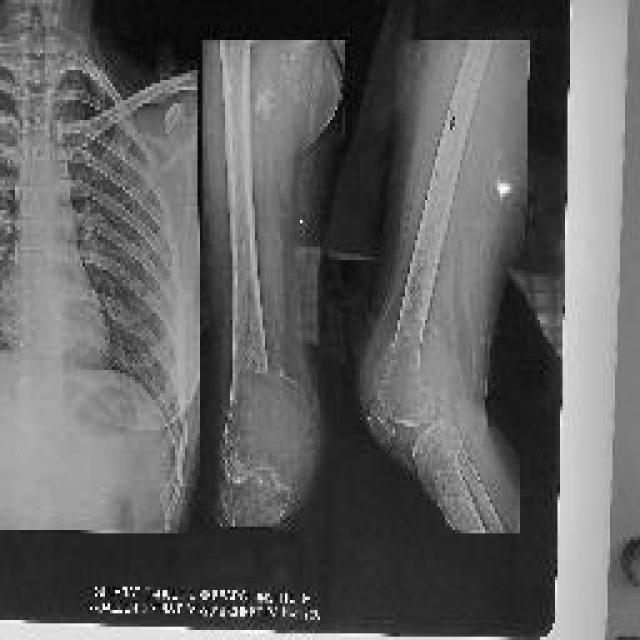bone-cancer: (232, 371, 306, 486), (380, 320, 457, 404)
